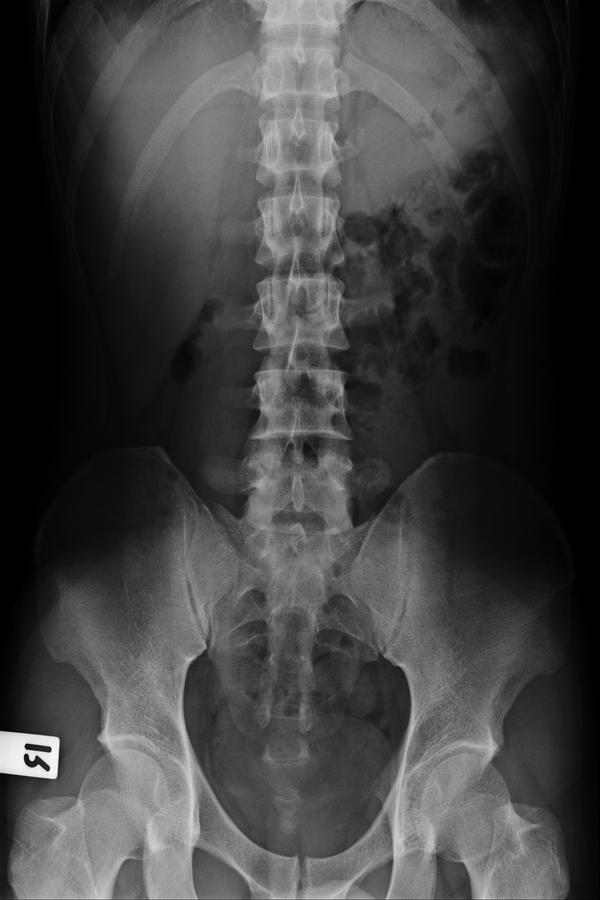not lumbar scoliosis: (243, 183, 367, 568)
